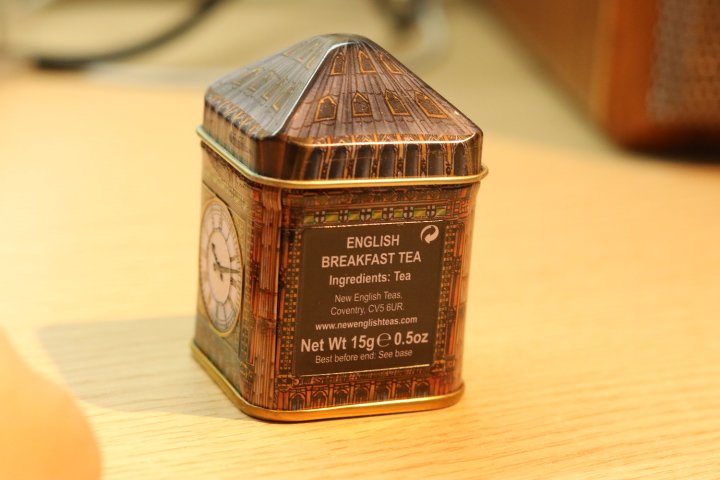Big Ben: (180, 24, 497, 429)
